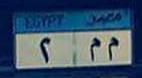2: (38, 36, 53, 63)
meem: (104, 37, 121, 62), (87, 37, 102, 62)
